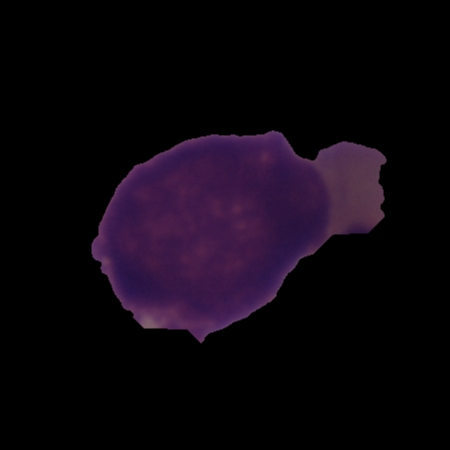ALL: (88, 127, 391, 344)
